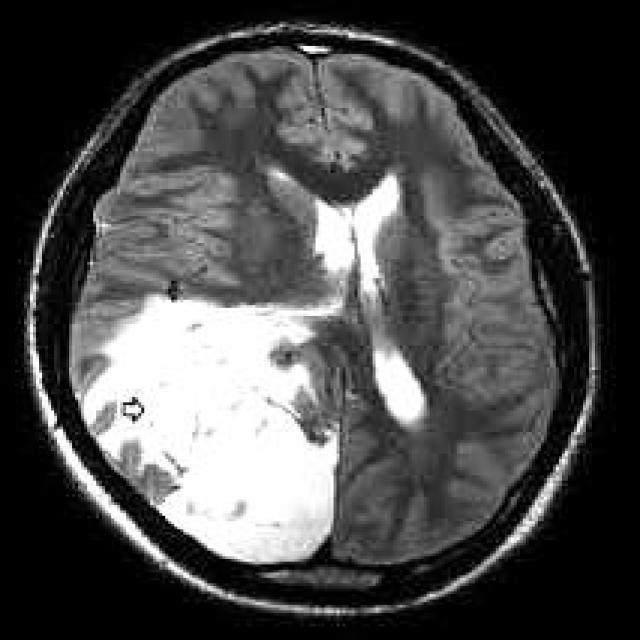tumor: (78, 294, 343, 570)
